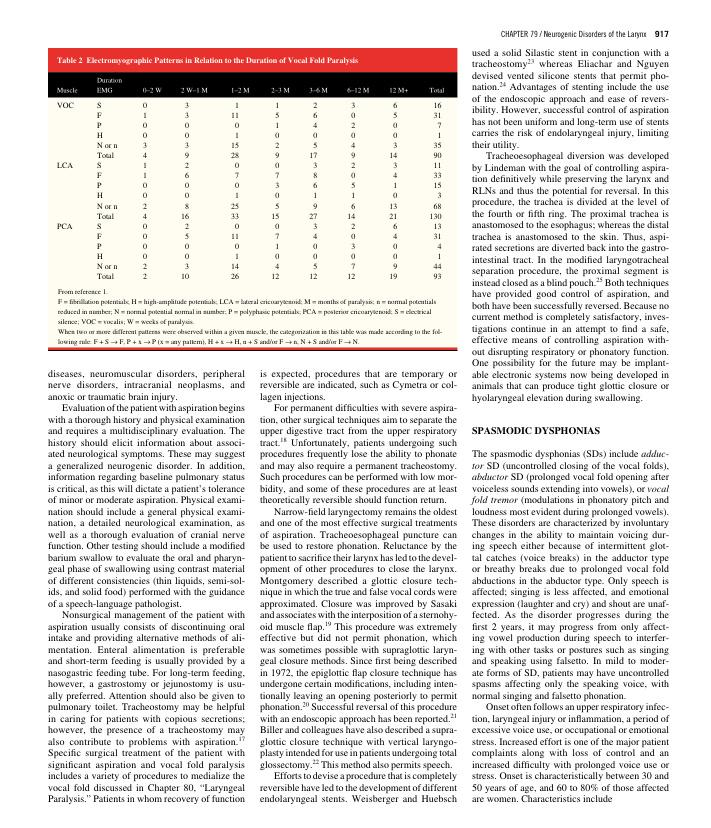caption: (56, 55, 360, 66)
header: (500, 30, 647, 39)
section-heading: (470, 426, 601, 435)
table: (48, 71, 457, 351)
text: (45, 368, 246, 806), (259, 368, 458, 806), (470, 47, 671, 406), (471, 448, 670, 804)
